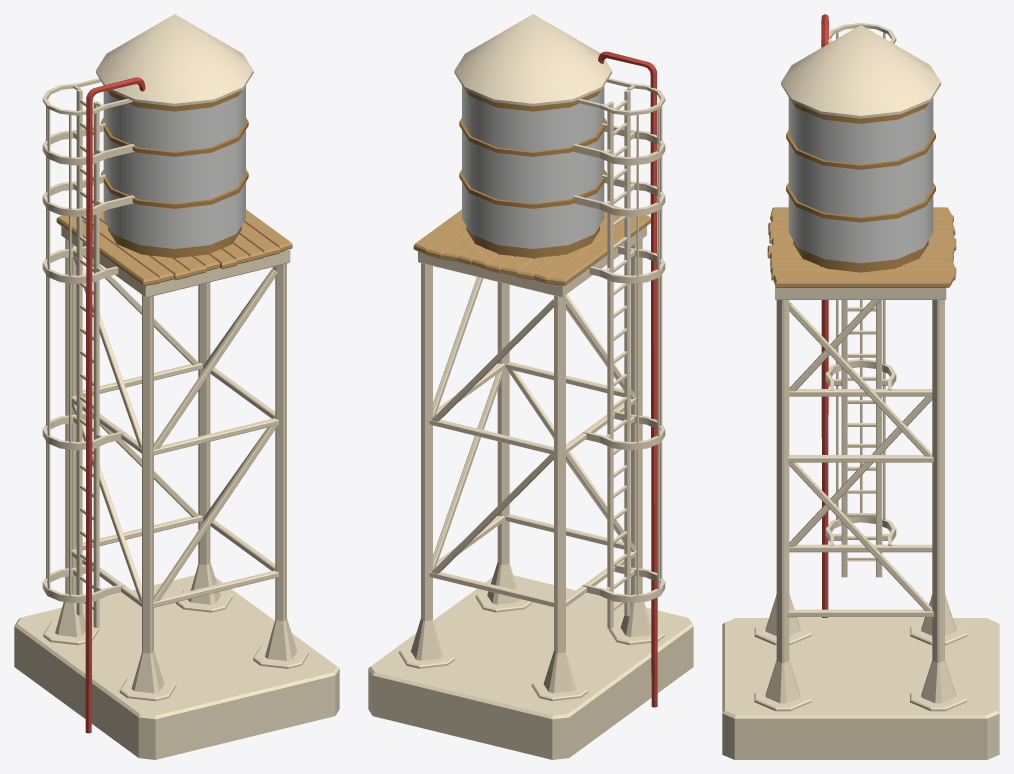
Rendered from farmstractures_26.gltf.
3 renders of one model, left to right at view 1: azimuth 30°, elevation 25°; view 2: azimuth 150°, elevation 25°; view 3: azimuth 270°, elevation 25°, orthographic.
Visible parts, largest first — view 1: body, blades; view 2: body, blades; view 3: body, blades.
Boxes of the visible parts, x1,y1,x2,y2 form: body: [14, 14, 339, 759]; blades: [46, 90, 99, 628]; body: [368, 14, 693, 759]; blades: [607, 90, 662, 628]; body: [722, 14, 999, 759]; blades: [836, 32, 885, 577].
Size of the model in its own units: 2.89 by 8.16 by 2.98.
Materials: 1 (1 with a texture image).
